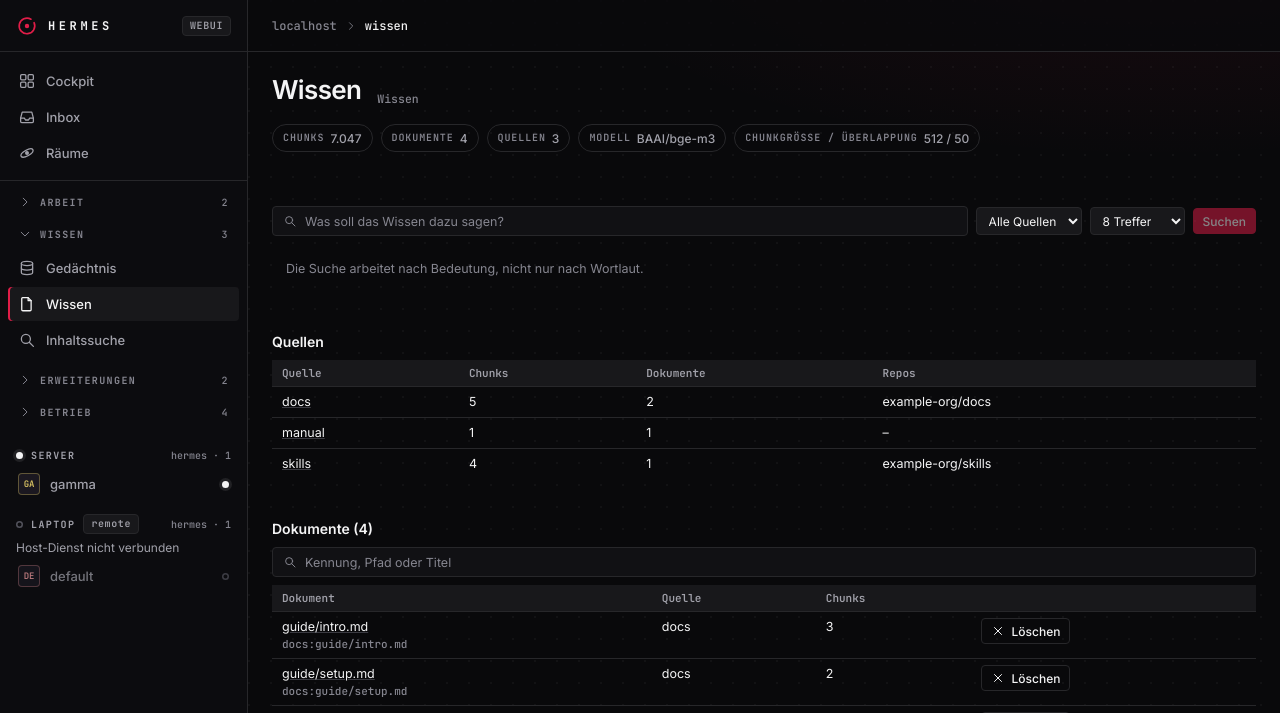
it: Wissen › deletes only after the sync_id was typed, and tells that the sync may bring it back
Expected: the heading "Wissen" is shown, [272,74,361,106]
Expected: the field named "Wissen durchsuchen" is shown, [305,207,957,235]
Click the button with aria-label "docs:guide/setup.md löschen" at (1026, 678), box [982,665,1070,691]
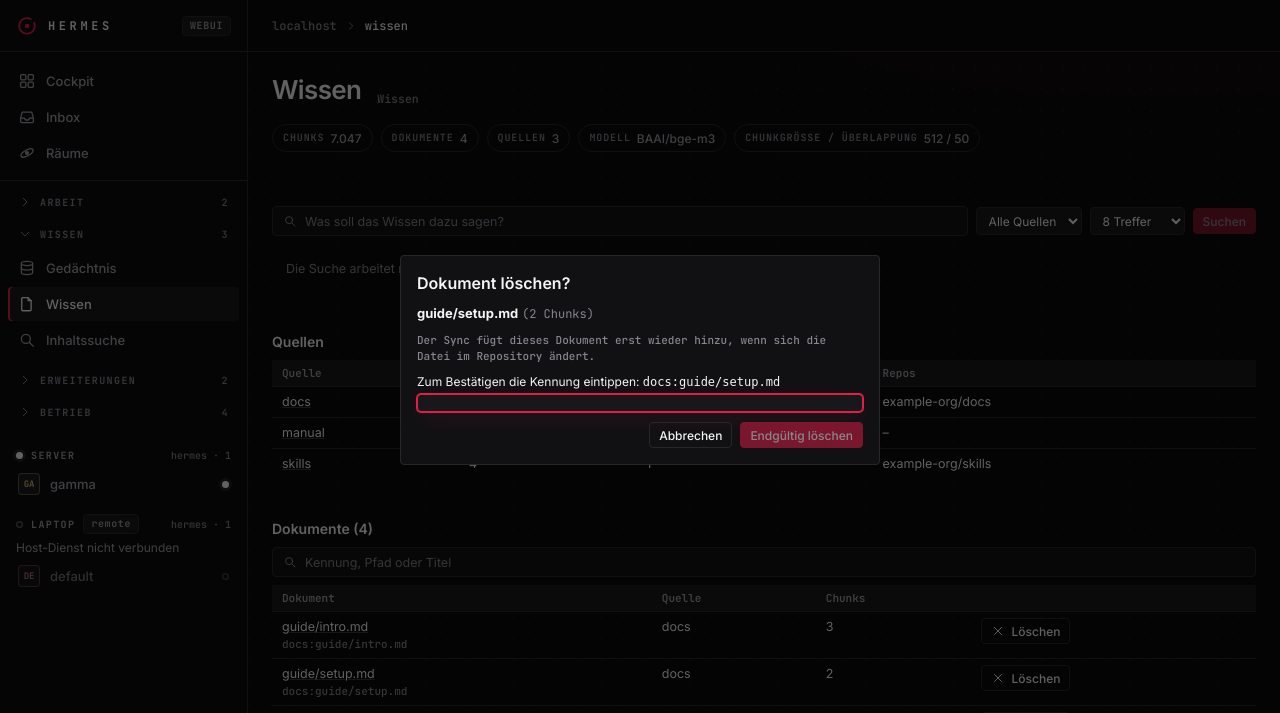
Expected: the text "Der Sync fügt dieses Dokument erst wieder hinzu, wenn sich die Datei im Repository ändert." is shown, [417,333,826,363]
Expected: the button "Endgültig löschen" is disabled, [740,422,863,448]
Type "docs:guide/setu" into the field named "Kennung zur Bestätigung" at (640, 403), box [417,394,863,412]
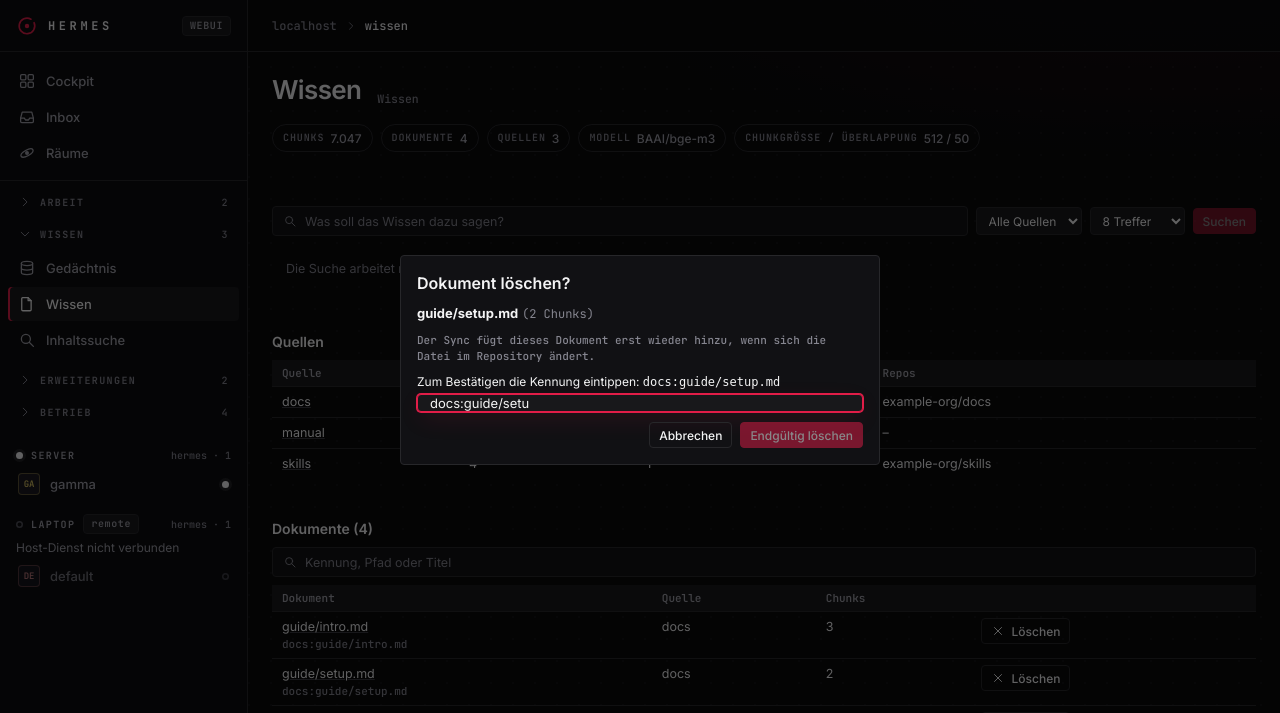
Expected: the button "Endgültig löschen" is disabled, [740,422,863,448]
Replace the text in the field named "Kennung zur Bestätigung" with "docs:guide/setup.md" at (640, 403), box [417,394,863,412]
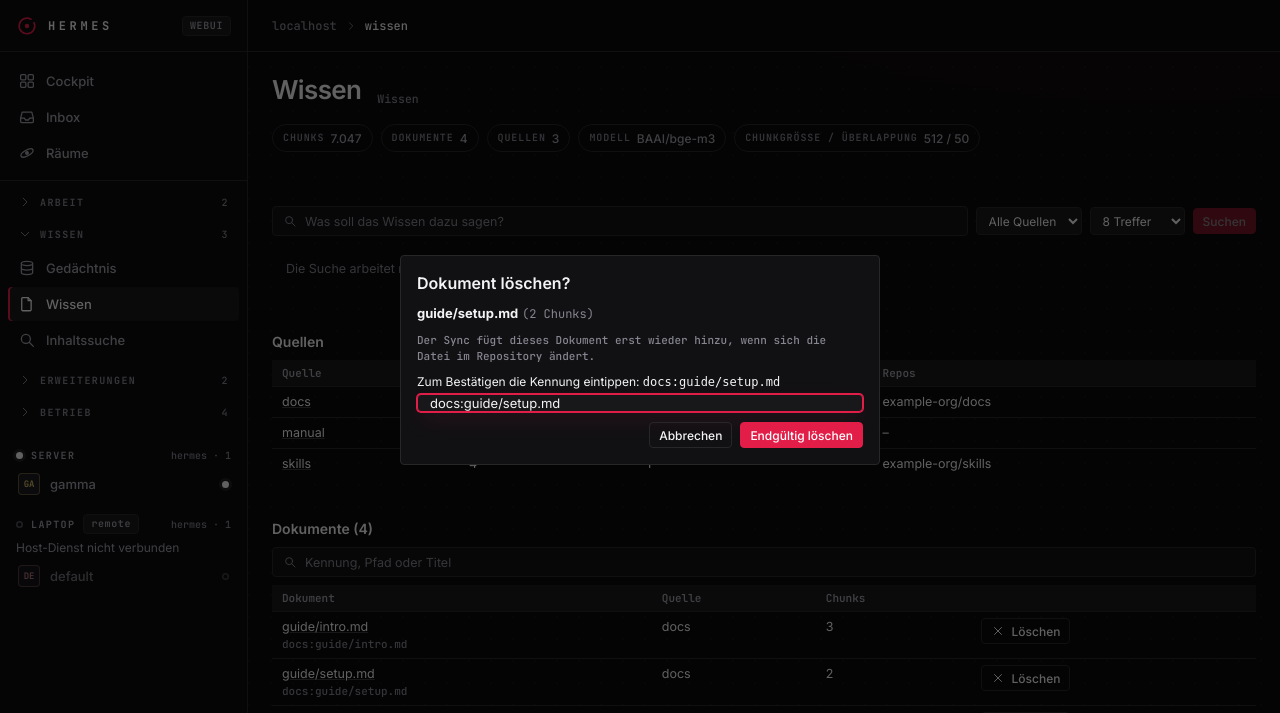
Click the button "Endgültig löschen" at (802, 435), box [740,422,863,448]
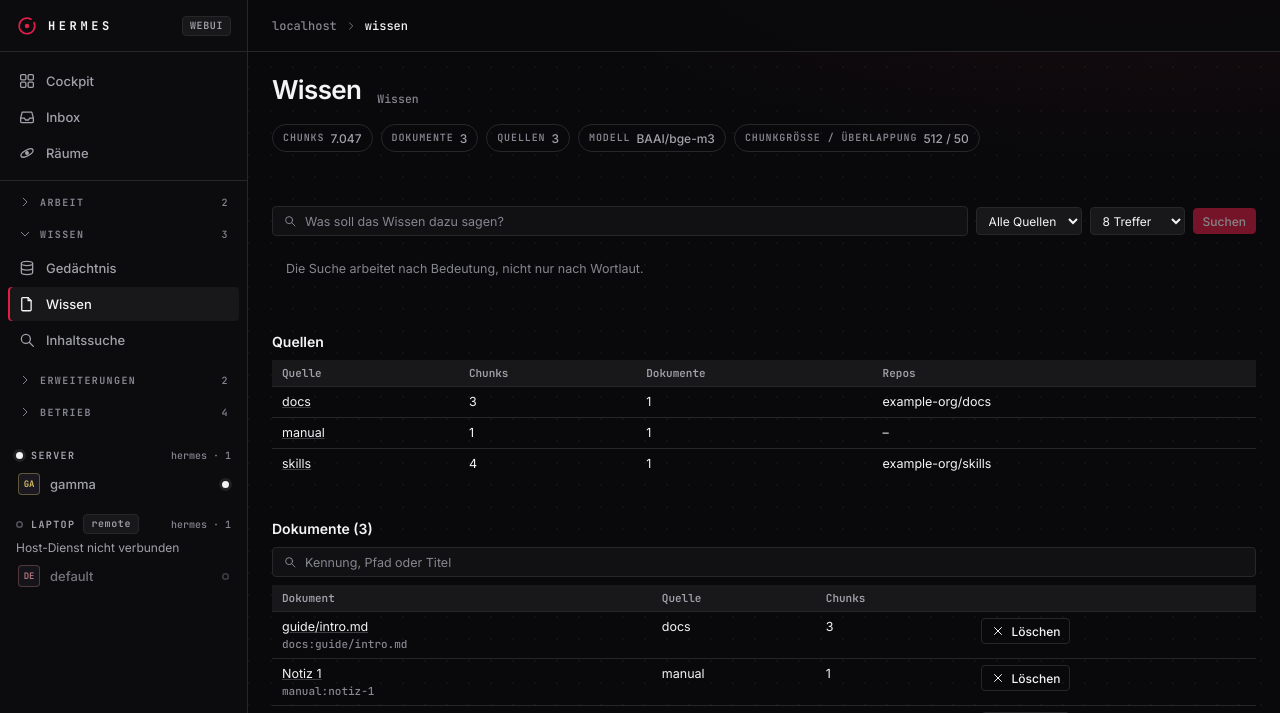
Expected: the dialog is gone
Expected: the text "docs:guide/setup.md" is gone
